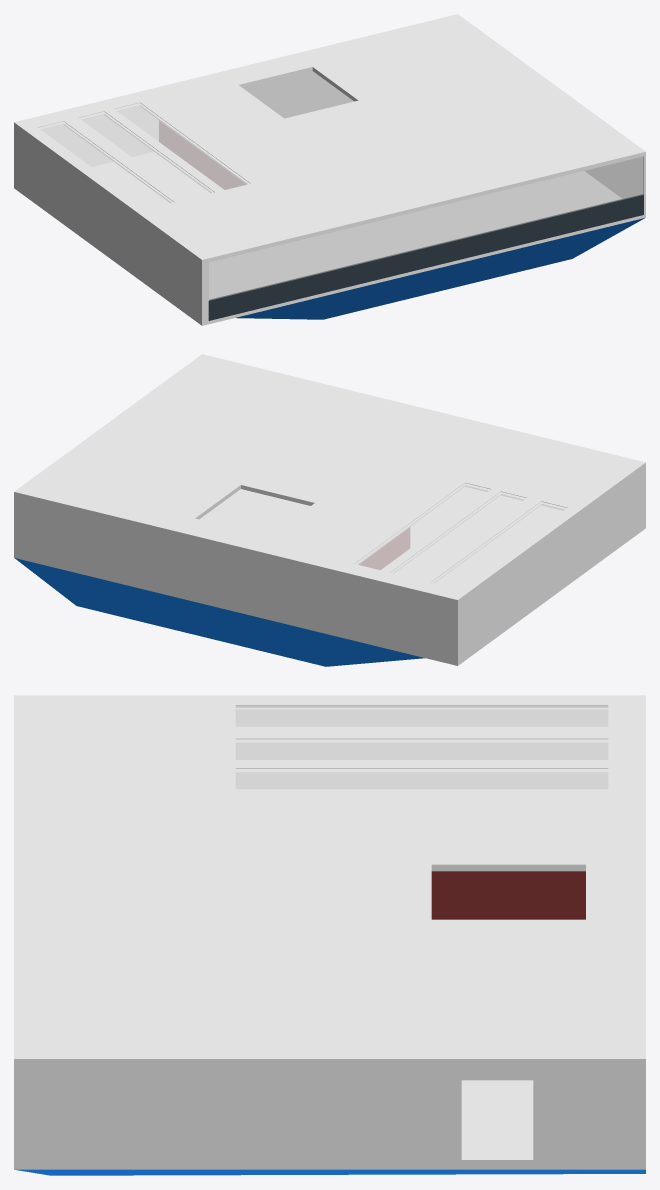
Rendered from Floor2_Ceiling.fbx.
3 views of the same model, one above another, from view 1: azimuth 30°, elevation 25°; view 2: azimuth 150°, elevation 25°; view 3: azimuth 270°, elevation 25° (orthographic). The views are drawn at different scales.
Parts seen in each view (by area): view 1: green Mesh (1), transparency Mesh (1), B1_ground Mesh (1), blue Mesh (1), Material #197 Mesh (1); view 2: green Mesh (1), blue Mesh (1), transparency Mesh (1), Material #197 Mesh (1); view 3: green Mesh (1), transparency Mesh (1), Material #197 Mesh (1), blue Mesh (1).
Part boxes in pixels (<box>): green Mesh (1): <box>14,14,645,325</box>; transparency Mesh (1): <box>38,103,643,300</box>; B1_ground Mesh (1): <box>208,194,643,320</box>; blue Mesh (1): <box>236,218,644,319</box>; Material #197 Mesh (1): <box>159,121,245,189</box>; green Mesh (1): <box>14,354,645,665</box>; blue Mesh (1): <box>14,558,424,666</box>; transparency Mesh (1): <box>355,483,566,588</box>; Material #197 Mesh (1): <box>359,528,409,569</box>; green Mesh (1): <box>14,695,645,1169</box>; transparency Mesh (1): <box>235,706,608,789</box>; Material #197 Mesh (1): <box>431,871,585,919</box>; blue Mesh (1): <box>15,1169,645,1175</box>.
Bounding box in the file's own units: 92.97 × 20.02 × 68.27.
